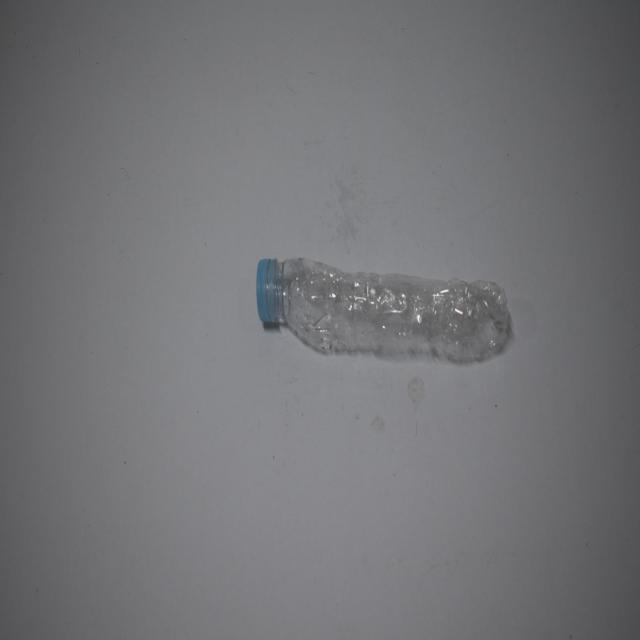bottle: (254, 249, 521, 363)
